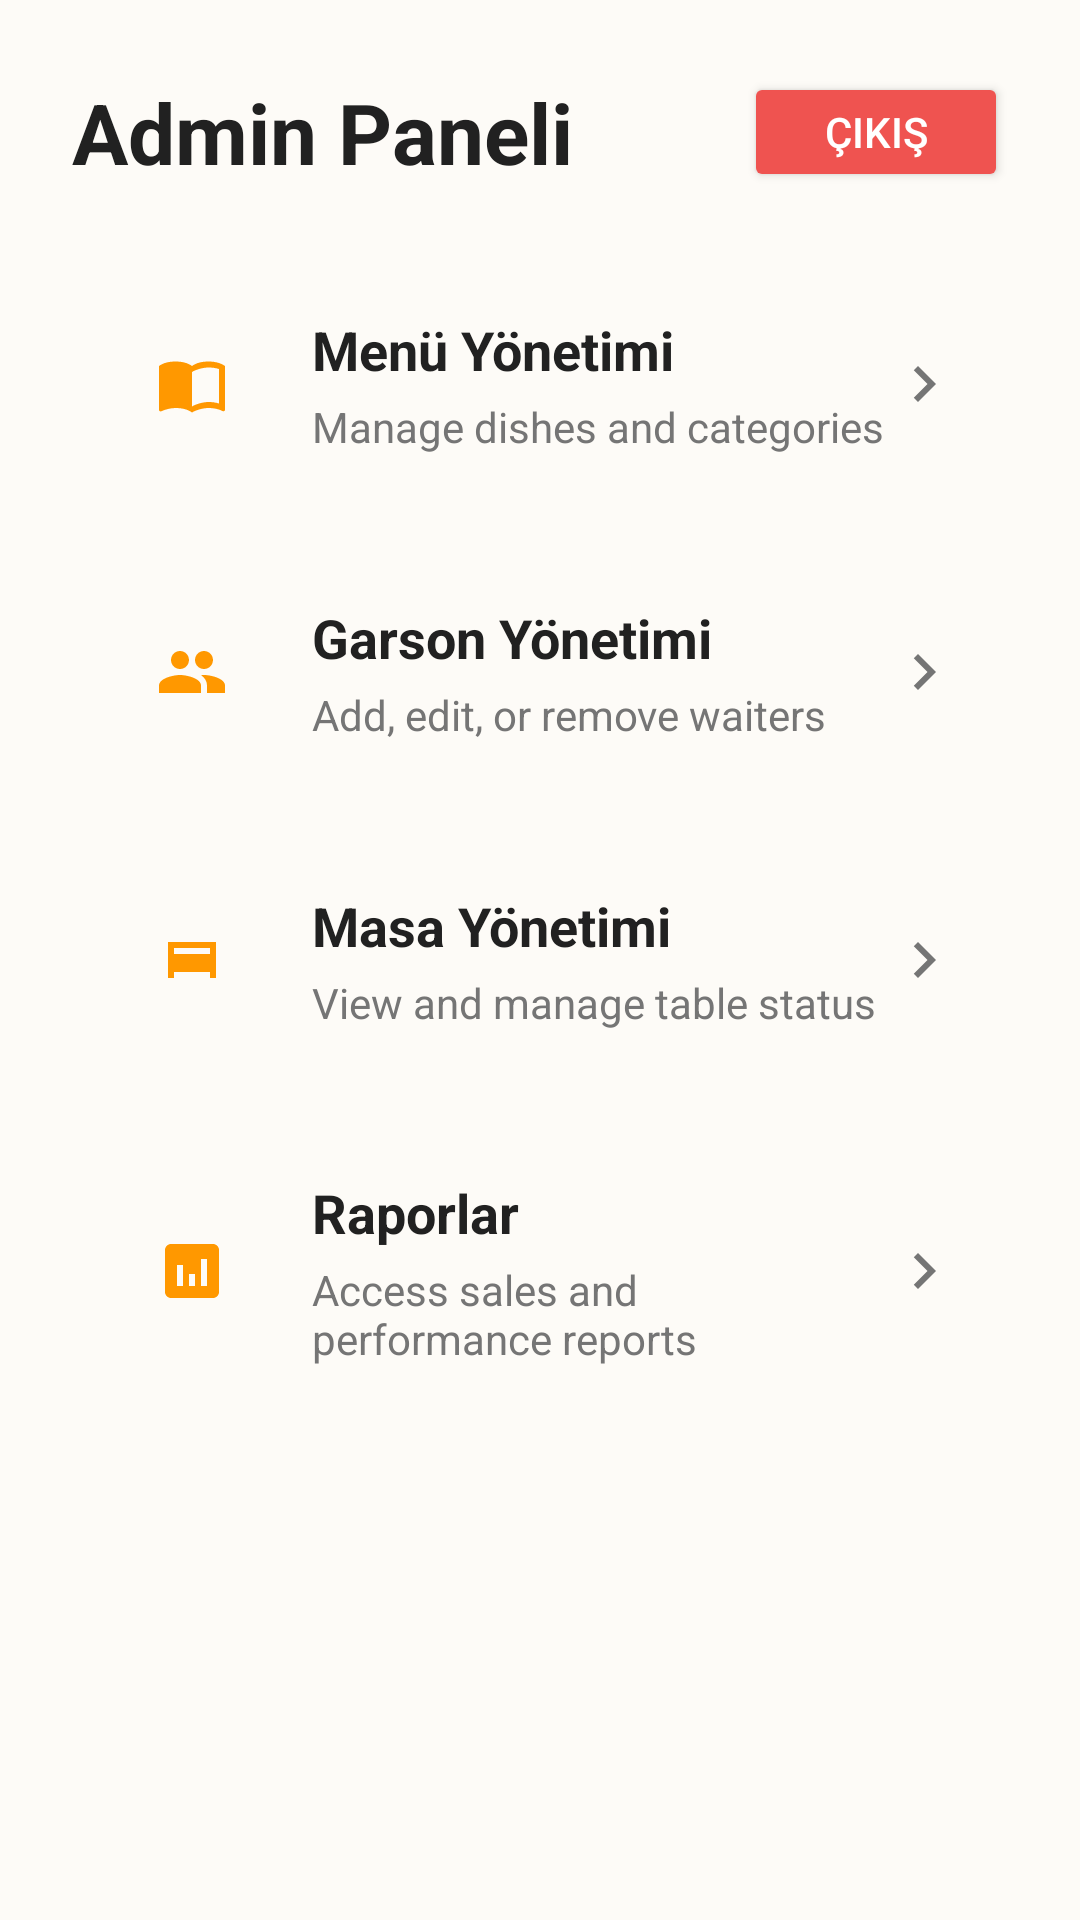

Icons on this 1080×1920 Android screen, each with the point to tap as (x=x, y=y):
analytics: (x=192, y=1271)
book: (x=192, y=387)
Go: (x=925, y=384), (x=925, y=672), (x=925, y=960), (x=925, y=1271)
people: (x=192, y=672)
table restaurant: (x=192, y=960)
